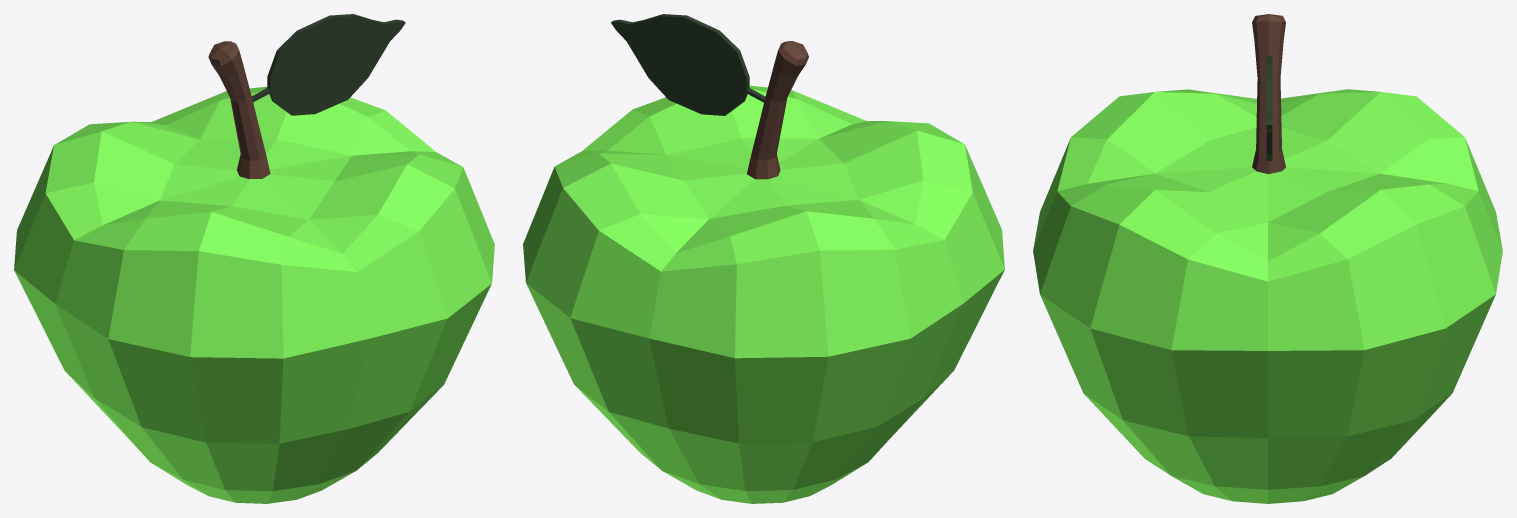
Rendered from apple-green.glb.
3 renders of one model, left to right at view 1: azimuth 30°, elevation 25°; view 2: azimuth 150°, elevation 25°; view 3: azimuth 270°, elevation 25°, orthographic. The views are drawn at different scales.
Parts seen in each view (by area): view 1: Apple_Green; view 2: Apple_Green; view 3: Apple_Green.
Boxes of the visible parts, bbox=[...] form: Apple_Green: bbox=[14, 14, 494, 503]; Apple_Green: bbox=[523, 14, 1004, 503]; Apple_Green: bbox=[1033, 14, 1502, 503].
Bounding box in the file's own units: 0.1626 × 0.1726 × 0.1618.
